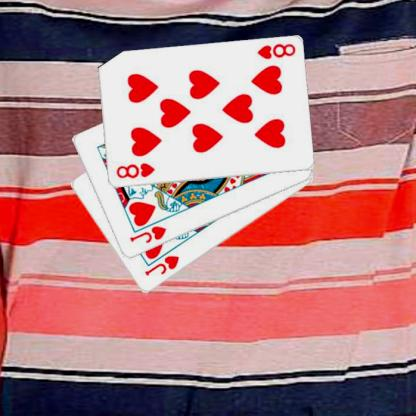8H: (113, 160, 156, 180), (255, 41, 296, 61)
JH: (142, 252, 180, 277), (127, 223, 167, 245)
